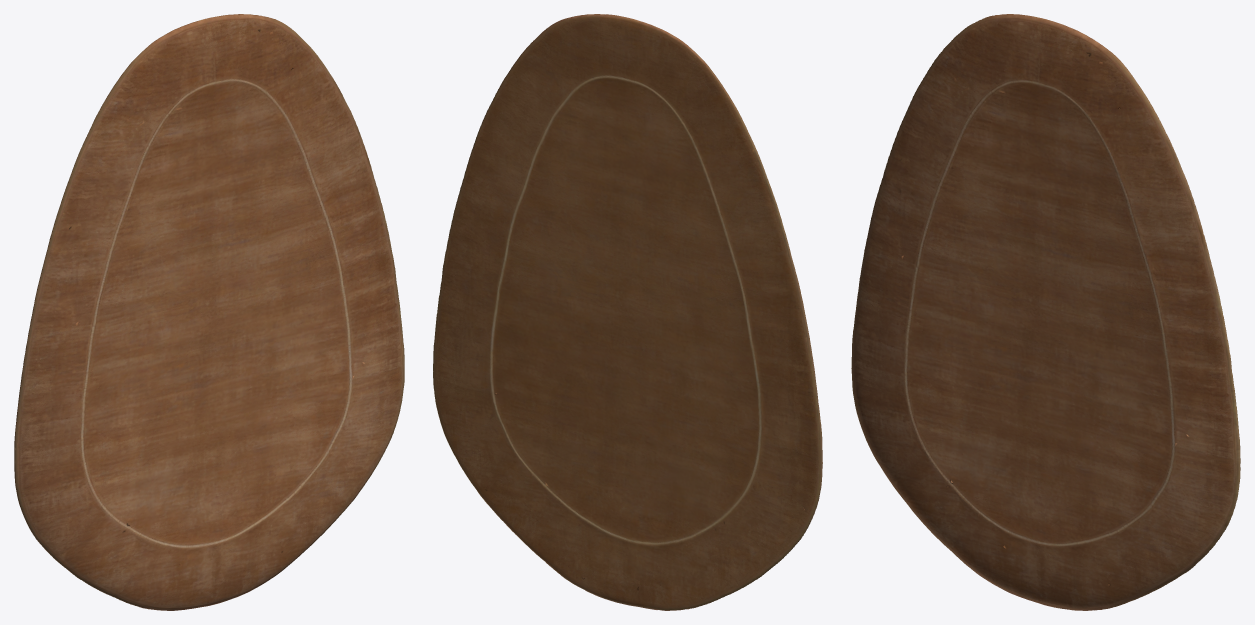
File: Meshy_AI_Pebble_Rug_0225023232_texture.glb
3 renders of one model, left to right at view 1: azimuth 30°, elevation 25°; view 2: azimuth 150°, elevation 25°; view 3: azimuth 330°, elevation 25°, orthographic.
Bounding box in the file's own units: 1.39 × 2 × 0.0533.
1 material, 1 textured.
